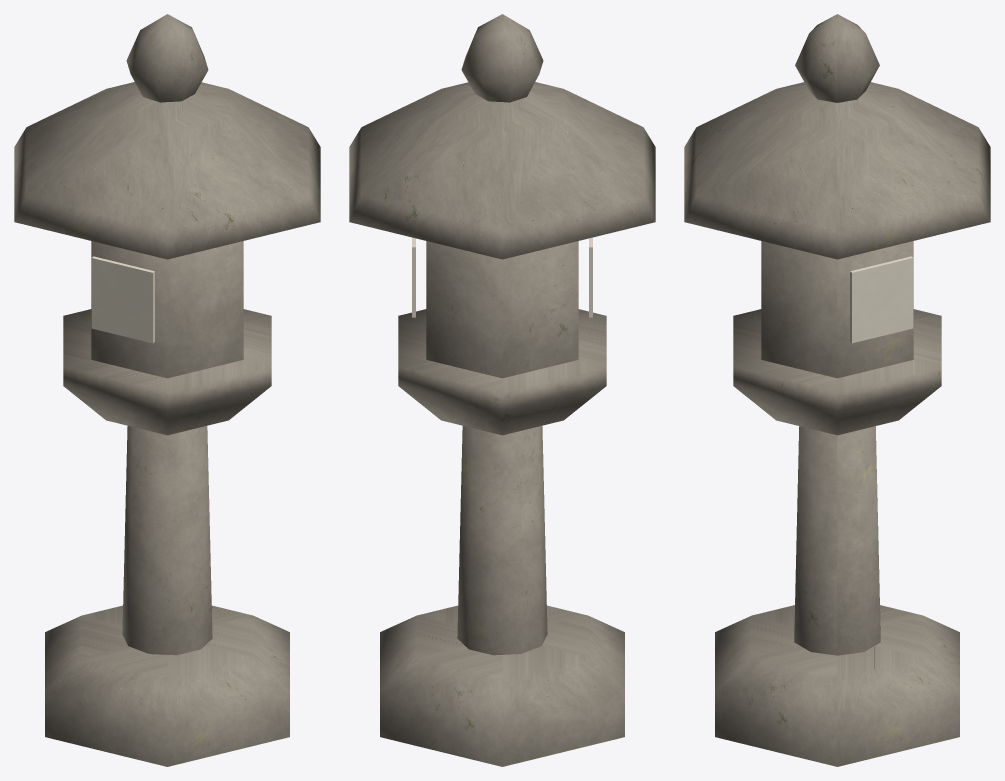
Rendered from HO_Prop_StoneLantern.fbx.
The picture shows the model from 3 angles, left to right: view 1: azimuth 30°, elevation 25°; view 2: azimuth 150°, elevation 25°; view 3: azimuth 270°, elevation 25°; orthographic projection.
Visible parts, largest first — view 1: HO_Prop_StoneLantern, HO_Prop_StoneLantern_Glow; view 2: HO_Prop_StoneLantern, HO_Prop_StoneLantern_Glow; view 3: HO_Prop_StoneLantern, HO_Prop_StoneLantern_Glow.
Boxes of the visible parts, left/top/right/bottom form: HO_Prop_StoneLantern: left=14, top=14, right=320, bottom=766; HO_Prop_StoneLantern_Glow: left=91, top=256, right=154, bottom=343; HO_Prop_StoneLantern: left=349, top=14, right=655, bottom=766; HO_Prop_StoneLantern_Glow: left=412, top=237, right=592, bottom=317; HO_Prop_StoneLantern: left=684, top=14, right=990, bottom=766; HO_Prop_StoneLantern_Glow: left=850, top=256, right=913, bottom=343.
Bounding box in the file's own units: 2.5 × 5.4 × 2.17.
